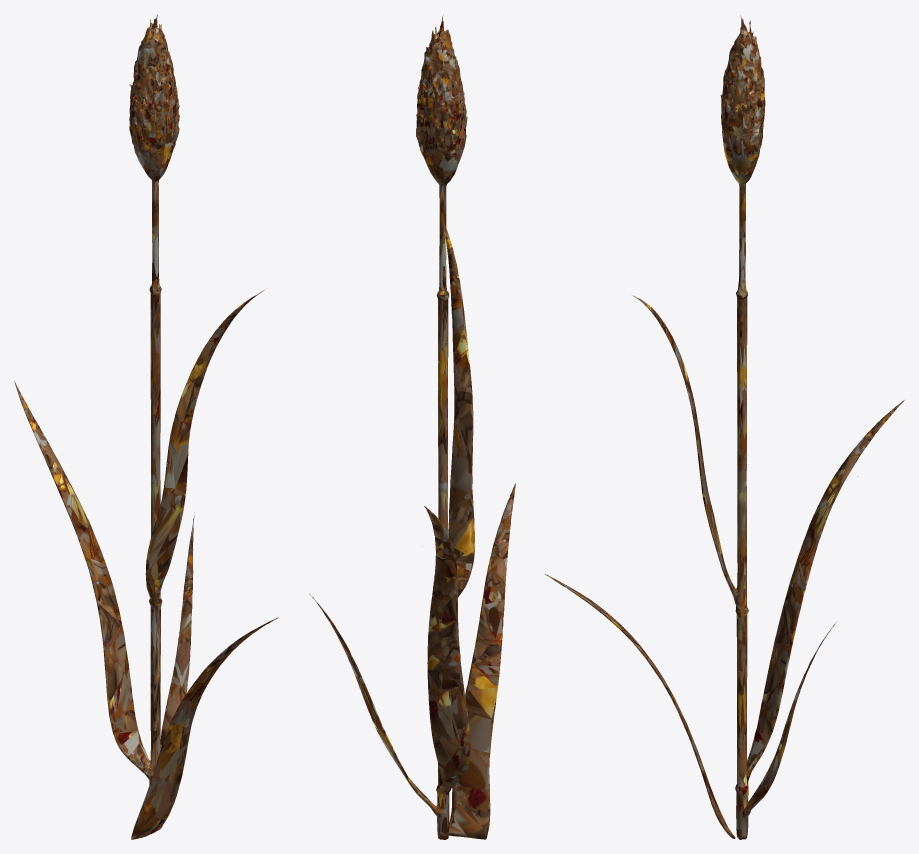
File: Silvergrass_5.fbx
3 renders of one model, left to right at view 1: azimuth 30°, elevation 25°; view 2: azimuth 150°, elevation 25°; view 3: azimuth 270°, elevation 25°, orthographic.
Parts seen in each view (by area): view 1: Silvergrass_5; view 2: Silvergrass_5; view 3: Silvergrass_5.
Part boxes in pixels (left/top/right/bottom): Silvergrass_5: left=14, top=15, right=278, bottom=839; Silvergrass_5: left=310, top=15, right=515, bottom=839; Silvergrass_5: left=545, top=15, right=904, bottom=839.
Bounding box in the file's own units: 36.61 × 190 × 75.11.
